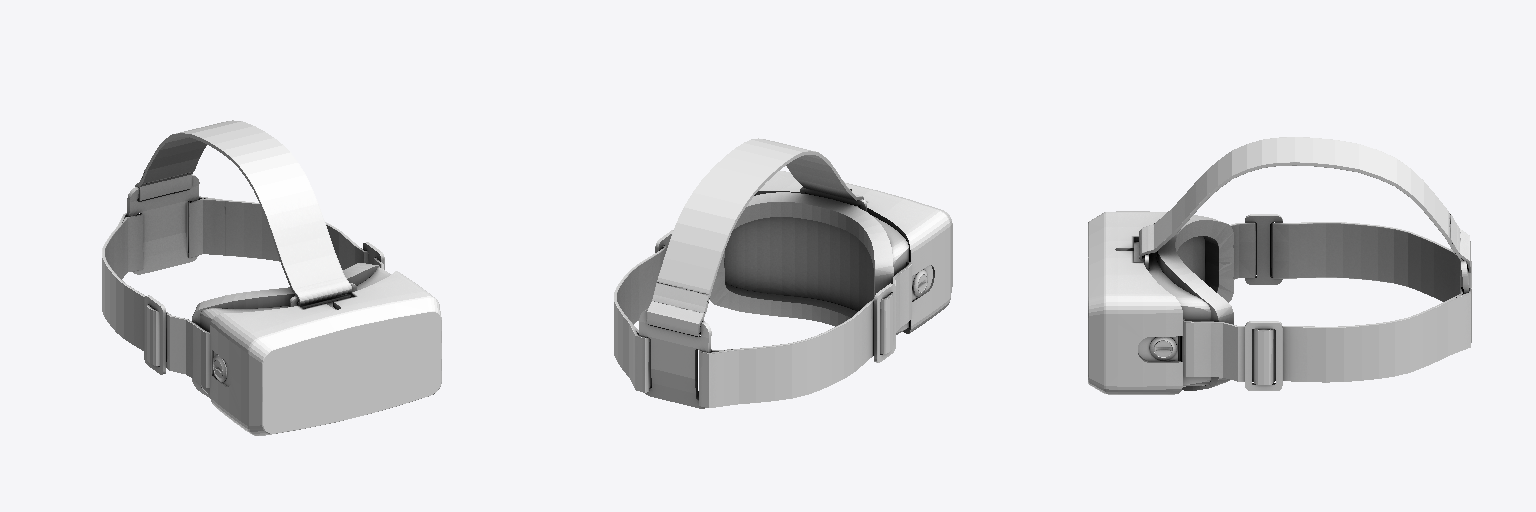
3 renders of one model, left to right at view 1: azimuth 30°, elevation 25°; view 2: azimuth 150°, elevation 25°; view 3: azimuth 270°, elevation 25°, orthographic.
Visible parts, largest first — view 1: dk2_hmd:dk2_hmd_dk2_hmd_mesh_Untitled; view 2: dk2_hmd:dk2_hmd_dk2_hmd_mesh_Untitled; view 3: dk2_hmd:dk2_hmd_dk2_hmd_mesh_Untitled.
Part boxes in pixels (bbox=[...]): dk2_hmd:dk2_hmd_dk2_hmd_mesh_Untitled: bbox=[102, 120, 441, 435]; dk2_hmd:dk2_hmd_dk2_hmd_mesh_Untitled: bbox=[614, 138, 952, 408]; dk2_hmd:dk2_hmd_dk2_hmd_mesh_Untitled: bbox=[1088, 137, 1471, 394].
Bounding box in the file's own units: 0.1373 × 0.1221 × 0.1992.
Materials: 1 (1 with a texture image).